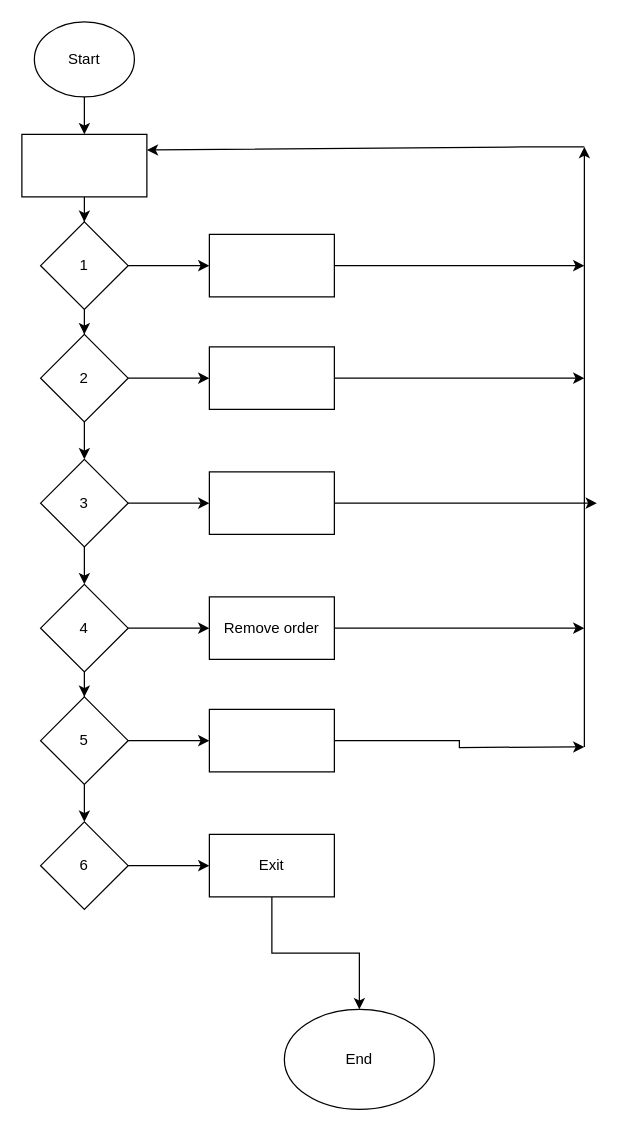
The diagram is 629 pixels wide and 1131 high, and some of its shapes have lost their labels. The shapes that lost their labels are listed below. From the top down, each one's centre as x and y in pixels, then its label:
point (84, 165): Get menu choice
point (271, 265): Display orders
point (271, 377): Add order
point (271, 502): Edit order
point (271, 740): Export
